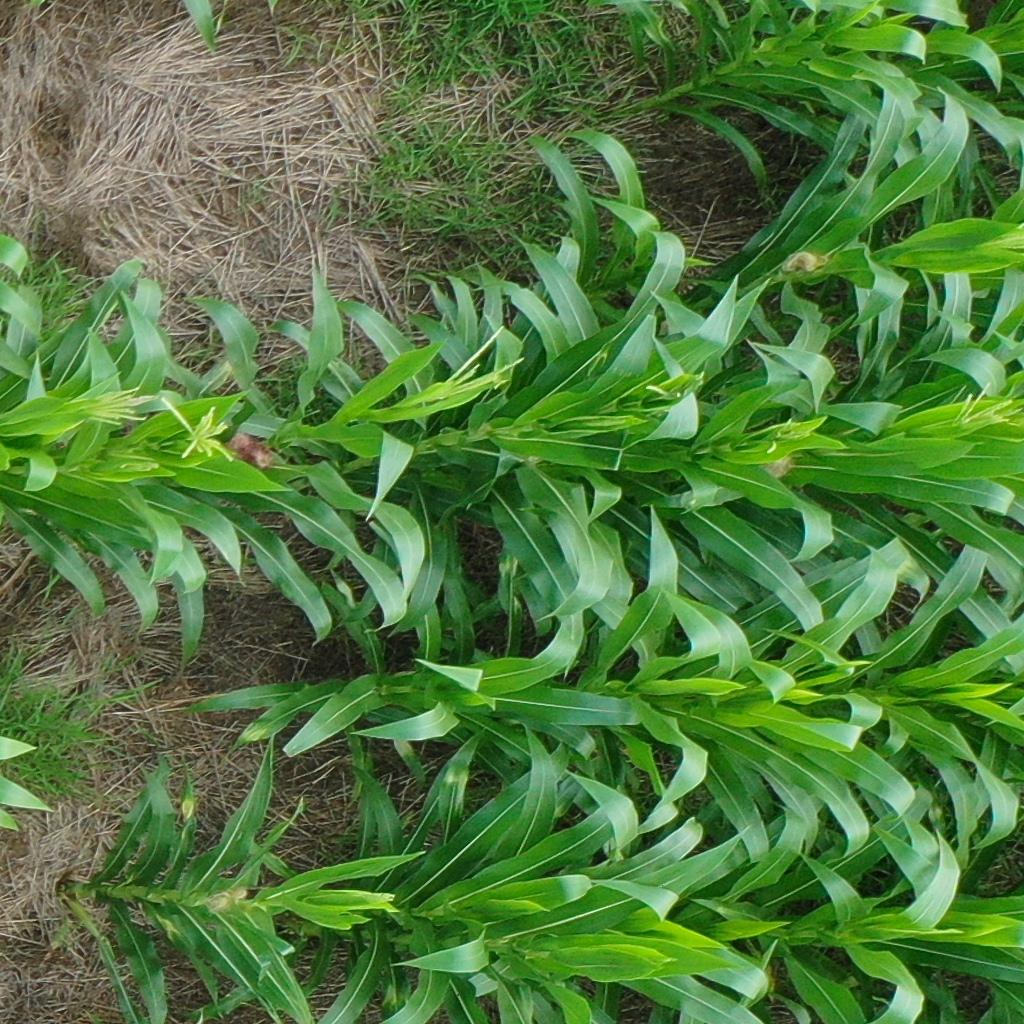Tassel: (403, 324, 526, 420), (163, 394, 235, 464), (70, 382, 157, 428), (952, 379, 1012, 432), (639, 365, 704, 405), (764, 413, 800, 454), (362, 888, 398, 905), (117, 461, 159, 474)
